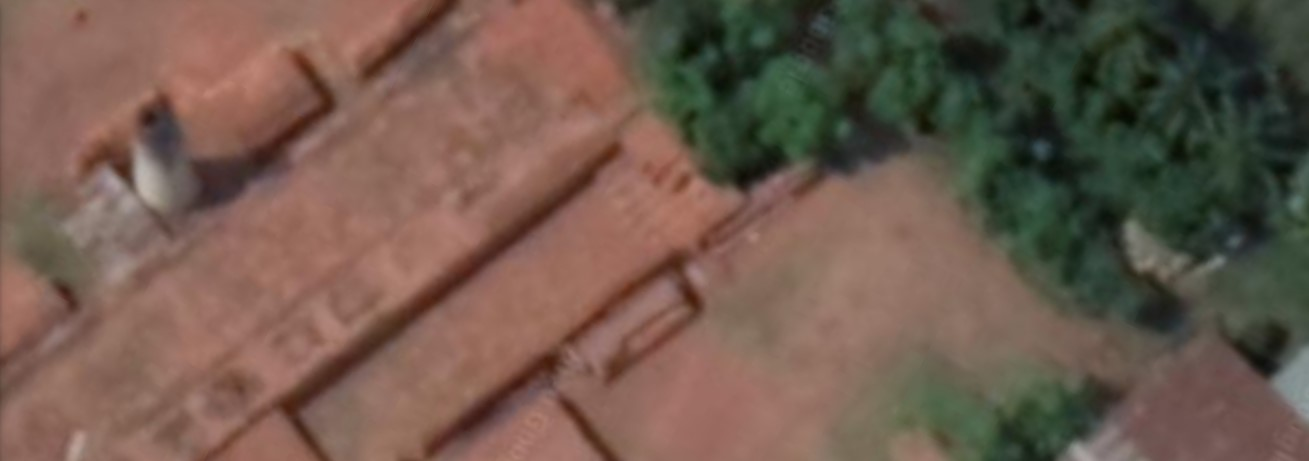kiln: (8, 14, 684, 427)
